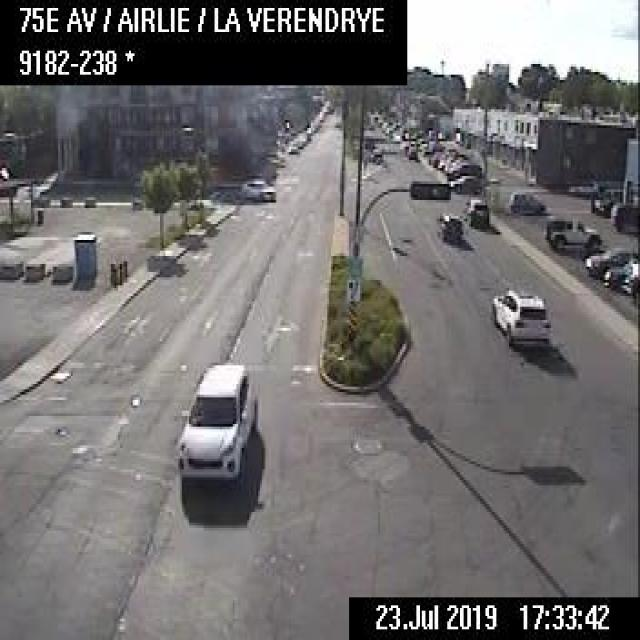construction: (108, 259, 115, 285), (121, 256, 127, 282), (116, 259, 120, 284)
vehicle: (173, 360, 257, 485), (489, 284, 552, 349), (544, 215, 601, 252), (584, 244, 636, 276), (508, 187, 546, 213), (602, 260, 637, 286), (610, 201, 638, 232), (239, 177, 274, 201), (463, 196, 487, 230), (435, 212, 463, 241), (449, 173, 480, 193), (448, 160, 481, 175), (368, 146, 382, 161), (404, 141, 415, 158), (285, 141, 297, 154)
